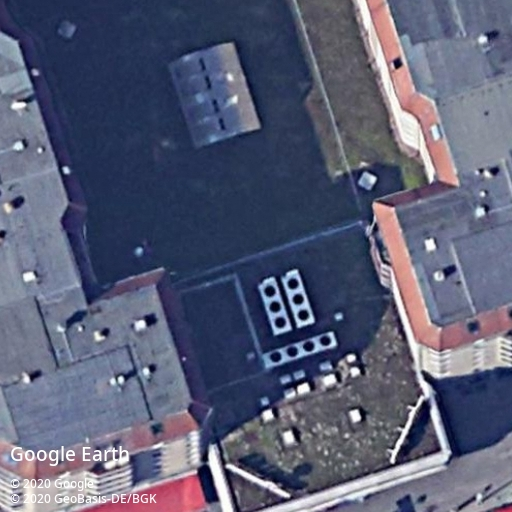Chiller: (261, 330, 339, 370), (281, 269, 318, 328), (258, 276, 293, 335)
